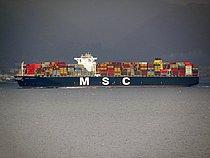Ship: (13, 52, 202, 90)
